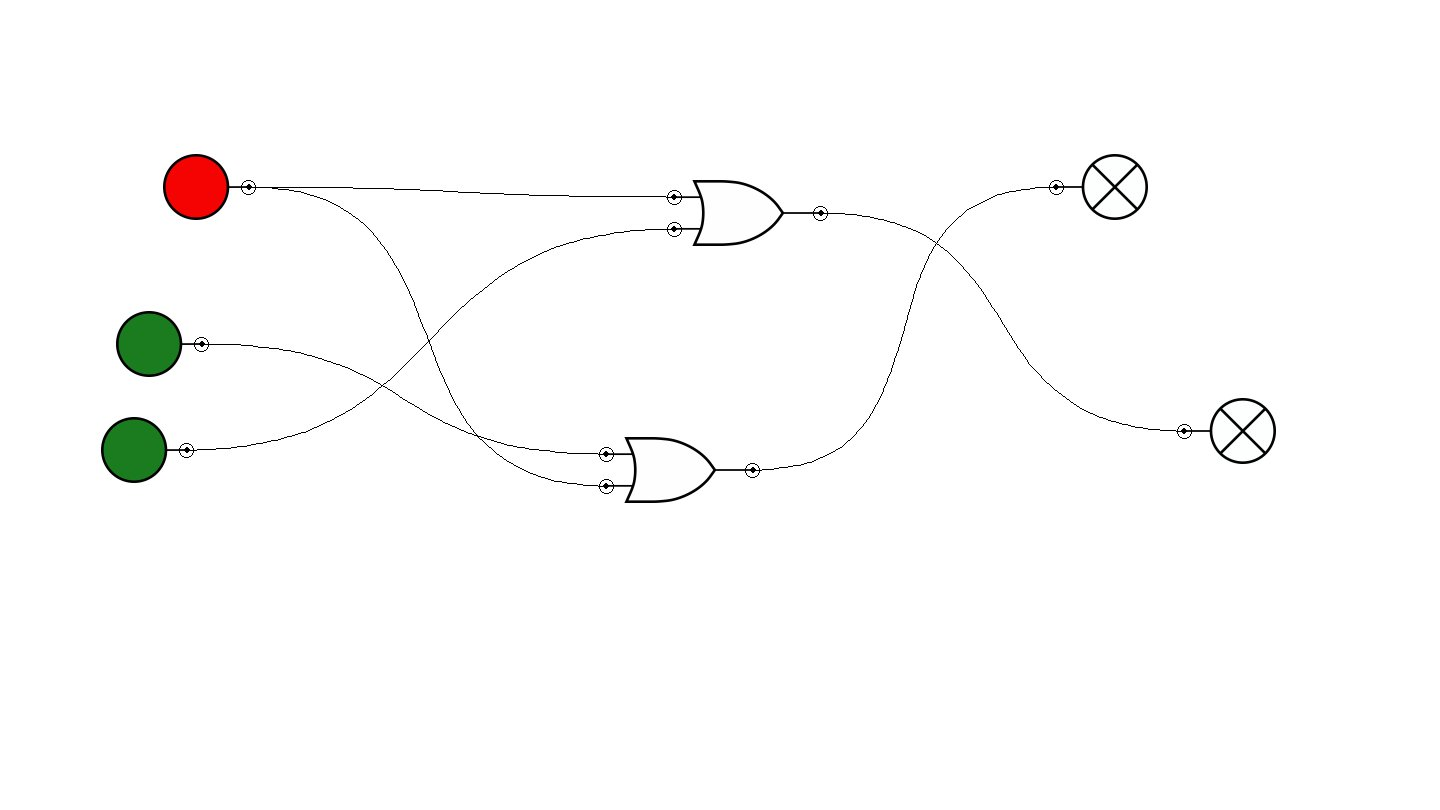bulb: (1177, 398, 1276, 464), (1049, 154, 1148, 220)
or: (667, 180, 828, 246), (599, 437, 760, 503)
switch_False: (163, 154, 256, 220)
switch_True: (116, 311, 209, 377), (101, 417, 194, 483)
